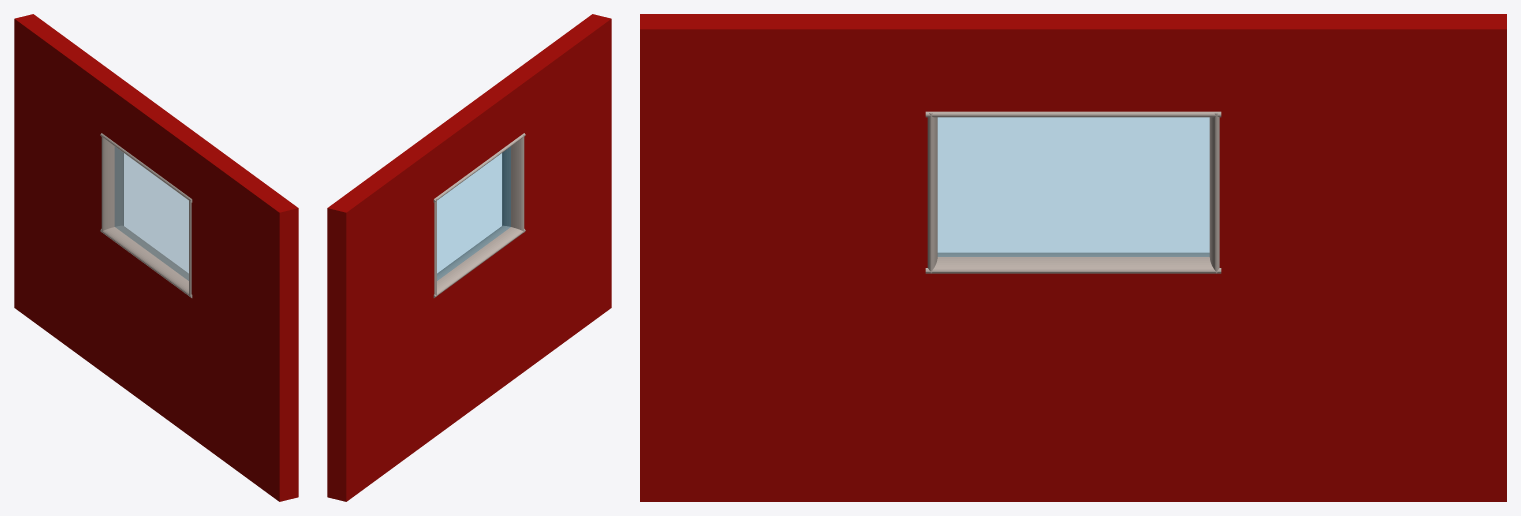
The model's file is wallwindow.fbx.
3 views of the same model, side by side, from view 1: azimuth 30°, elevation 25°; view 2: azimuth 150°, elevation 25°; view 3: azimuth 270°, elevation 25° (orthographic). The views are drawn at different scales.
Visible parts, largest first — view 1: Cube, Plane, Cylinder.003, Cylinder, Cylinder.001; view 2: Cube, Plane, Cylinder.002, Cylinder, Cylinder.001; view 3: Cube, Plane, Cylinder, Cylinder.001, Cylinder.002, Cylinder.003.
Boxes of the visible parts, bbox=[...] form: Cube: bbox=[14, 14, 298, 501]; Plane: bbox=[115, 147, 188, 280]; Cylinder.003: bbox=[101, 134, 123, 232]; Cylinder: bbox=[100, 225, 192, 297]; Cylinder.001: bbox=[100, 133, 192, 202]; Cube: bbox=[327, 14, 611, 501]; Plane: bbox=[437, 147, 510, 280]; Cylinder.002: bbox=[502, 135, 524, 232]; Cylinder: bbox=[433, 225, 525, 297]; Cylinder.001: bbox=[433, 133, 525, 202]; Cube: bbox=[640, 14, 1506, 501]; Plane: bbox=[938, 117, 1209, 256]; Cylinder: bbox=[925, 252, 1221, 273]; Cylinder.001: bbox=[925, 111, 1221, 117]; Cylinder.002: bbox=[927, 113, 937, 273]; Cylinder.003: bbox=[1209, 113, 1219, 273].
Size of the model in its own units: 79.6 by 1004 by 1669.
